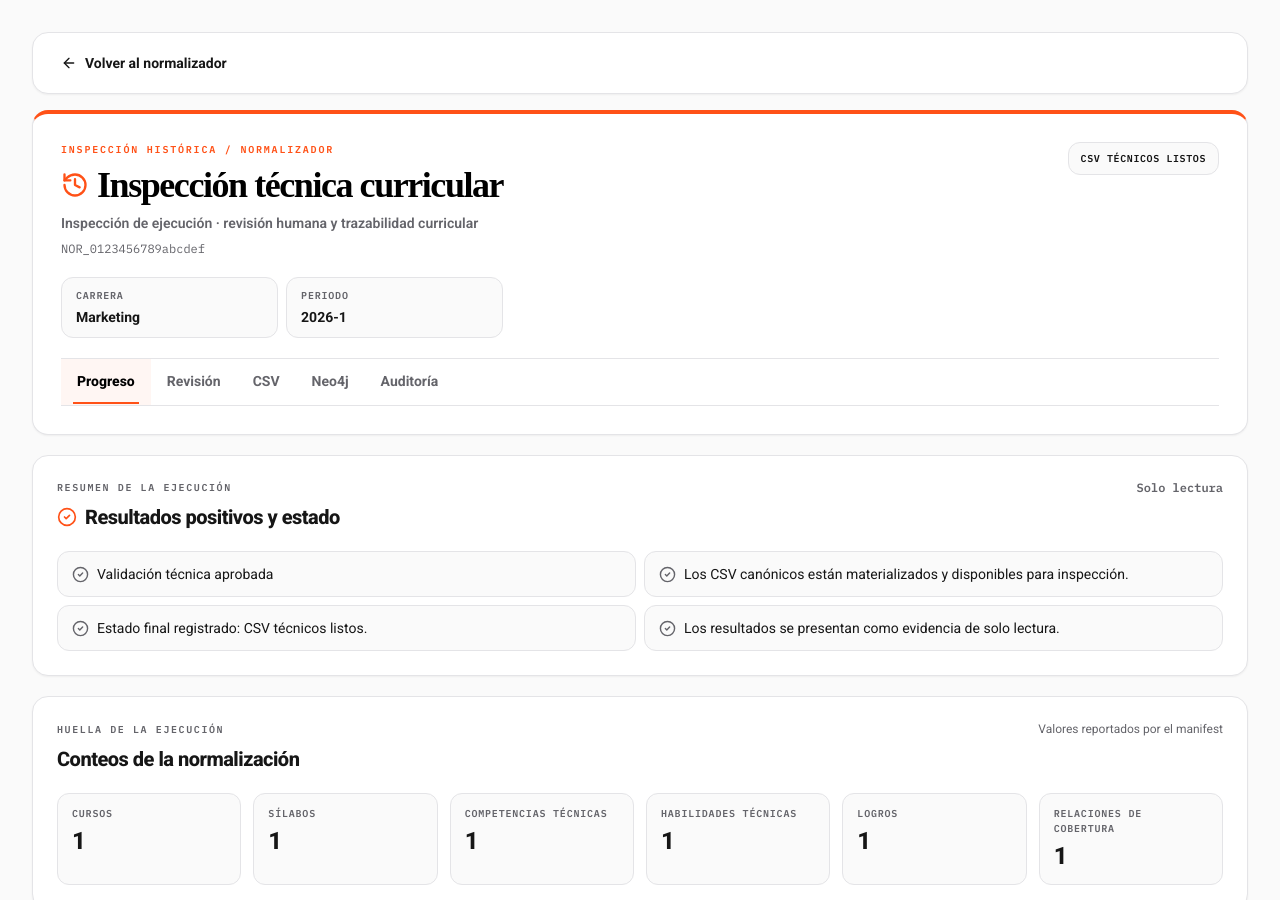
Test case: inspección de ejecución normalizada › expone solo las vistas humanas y mantiene los artefactos técnicos fuera del frontend
Click the tab "CSV".
click(266, 382)  # box [237,359,296,405]
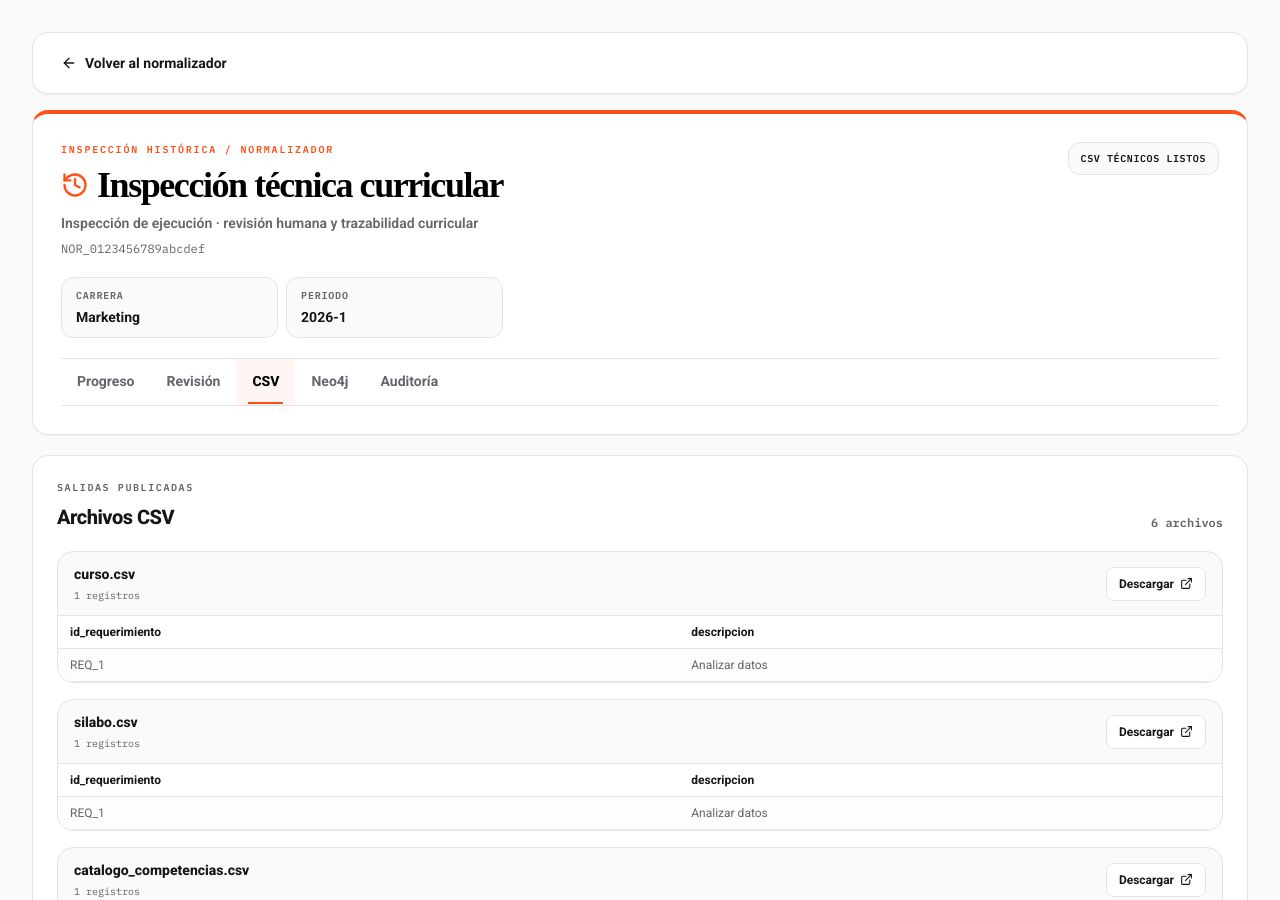
Now the heading "Archivos CSV" is shown, box [57,503,194,531]
Now the heading "curso.csv" is shown, box [74,564,140,584]
Now the link with aria-label "Descargar curso.csv" is shown, box [1106,566,1206,600]
